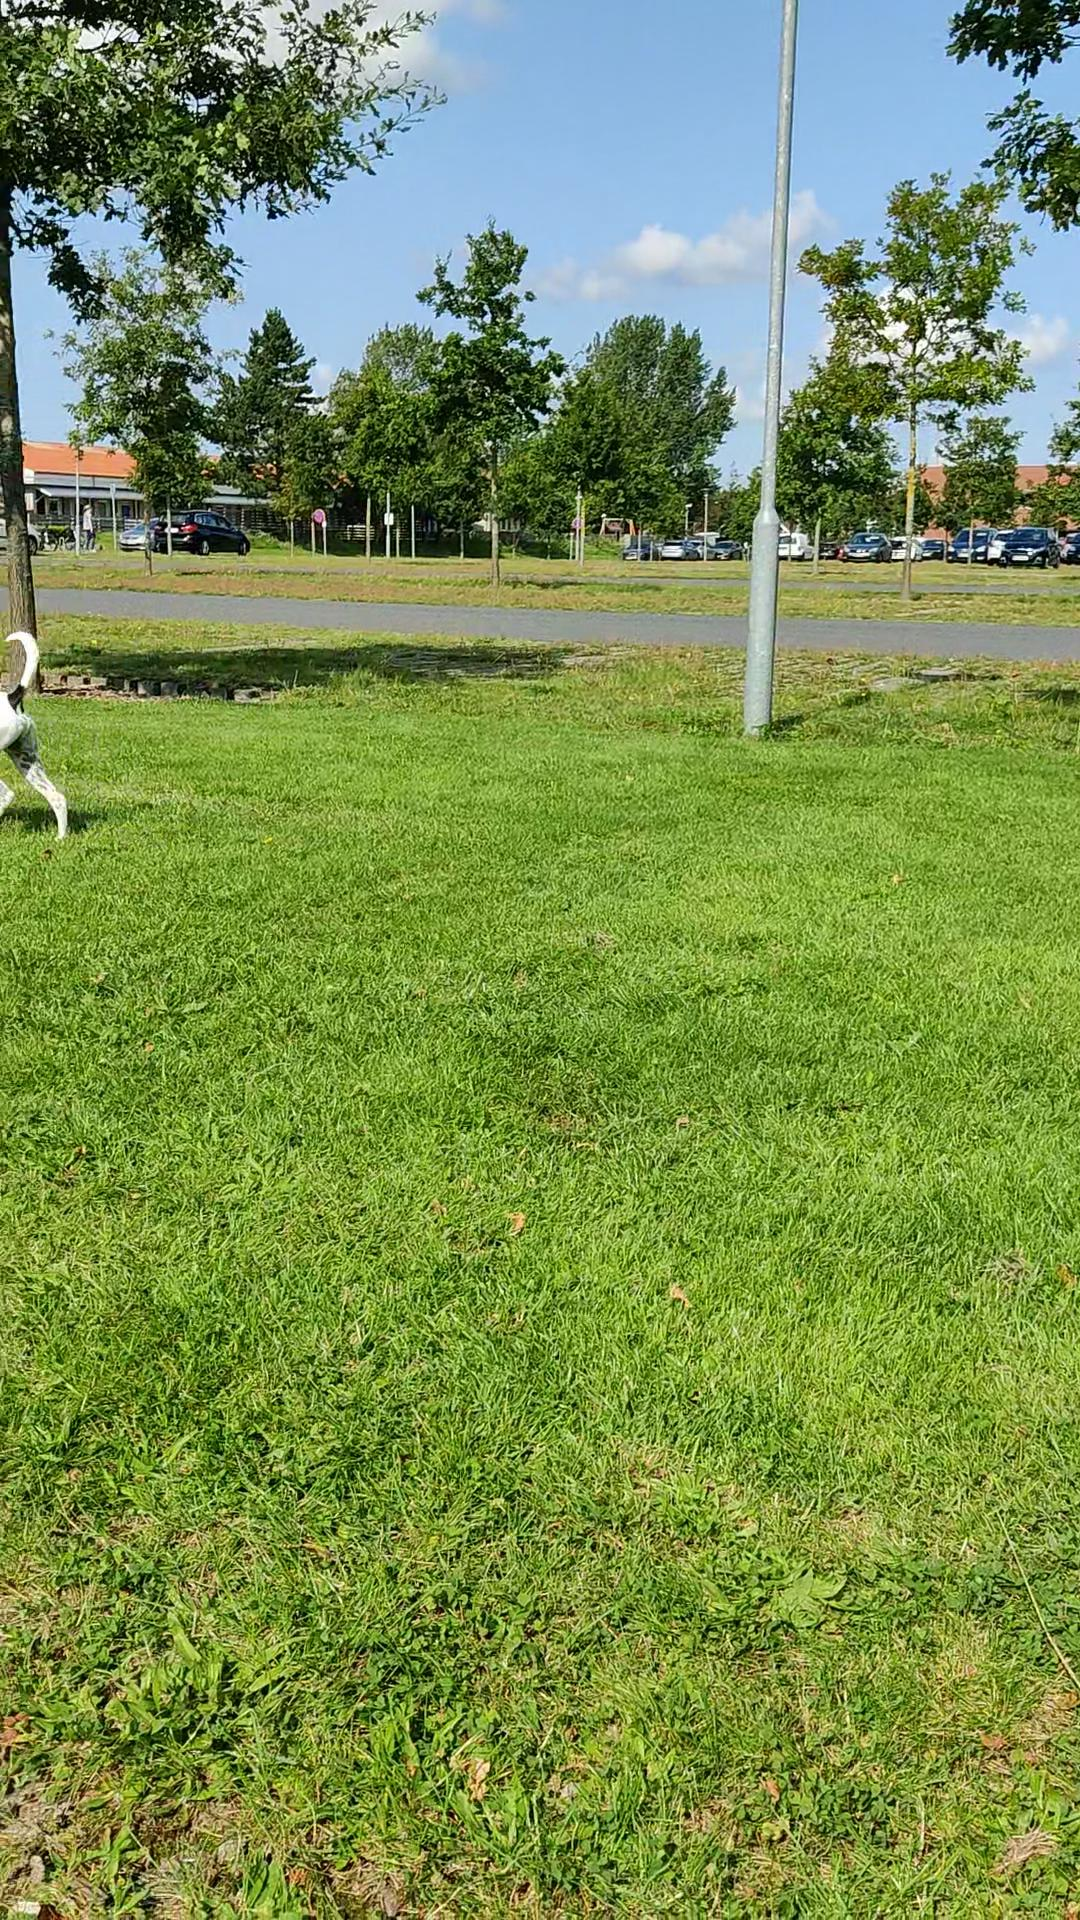Dog: (0, 617, 94, 866)
